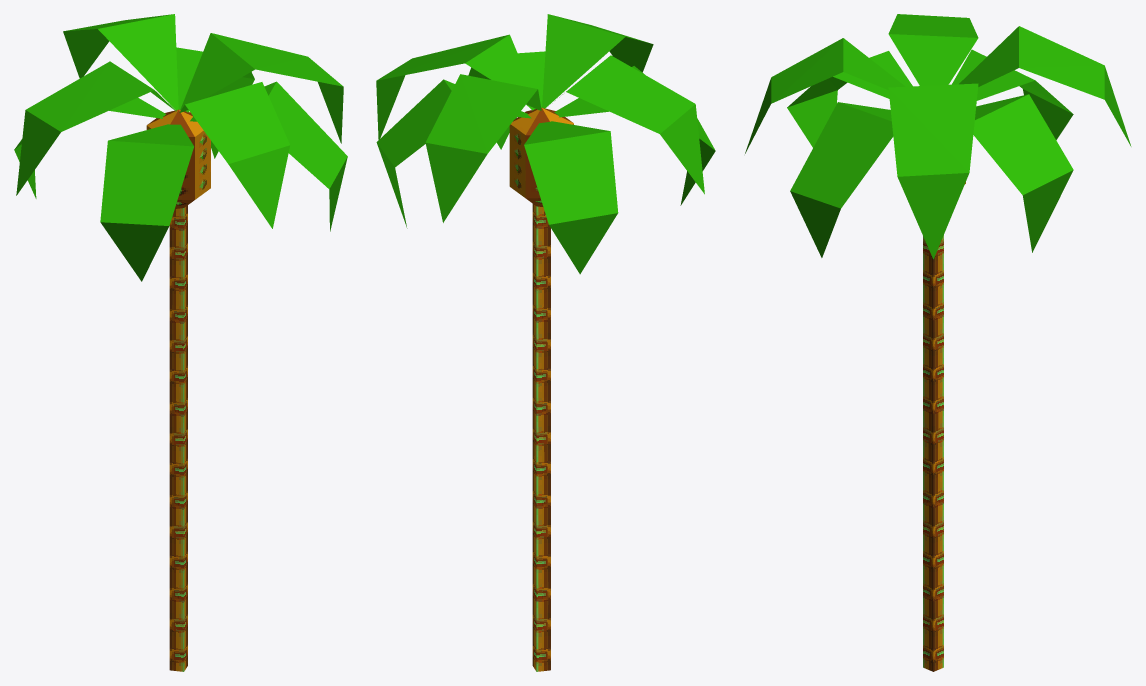
The model's file is GHZTree.glb.
The picture shows the model from 3 angles, left to right: view 1: azimuth 30°, elevation 25°; view 2: azimuth 150°, elevation 25°; view 3: azimuth 270°, elevation 25°; orthographic projection.
Parts seen in each view (by area): view 1: GHZ_Tree_MDL; view 2: GHZ_Tree_MDL; view 3: GHZ_Tree_MDL.
Boxes of the visible parts, x1,y1,x2,y2 form: GHZ_Tree_MDL: [14, 14, 347, 671]; GHZ_Tree_MDL: [376, 14, 715, 671]; GHZ_Tree_MDL: [745, 14, 1131, 671].
Size of what is drawn, in the model's own units: 2.16 by 3.92 by 2.21.
Materials: 1 (1 with a texture image).
